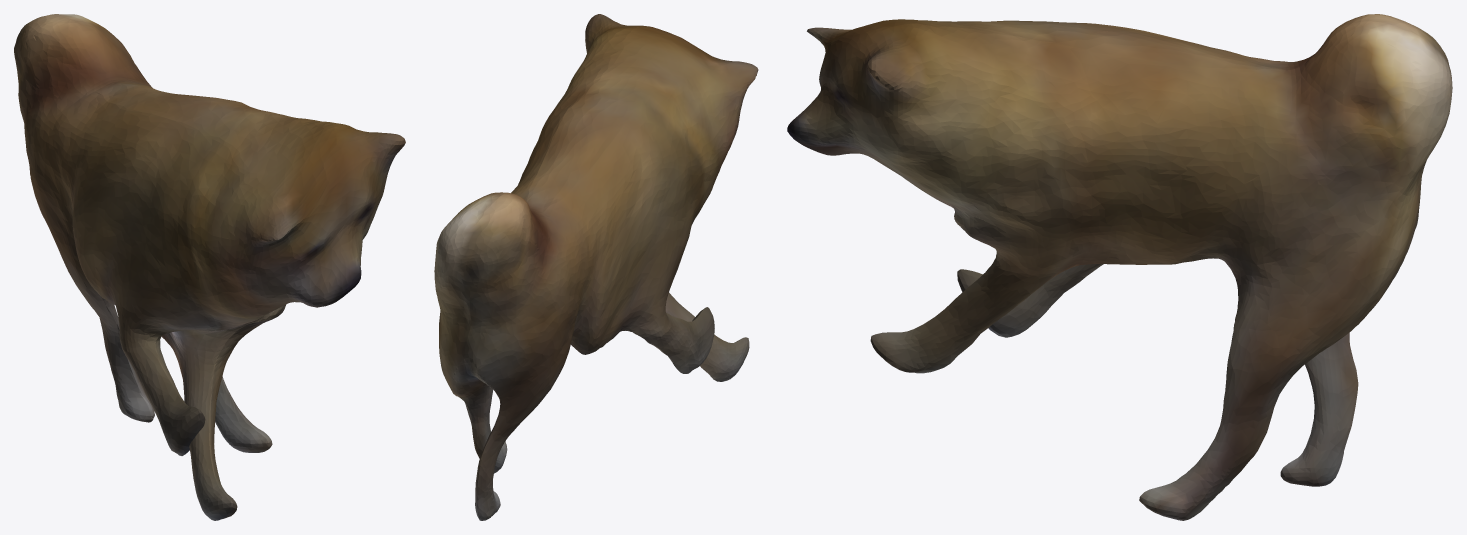
File: shiba-haru-1002-mesh-00011.obj
The picture shows the model from 3 angles, left to right: view 1: azimuth 30°, elevation 25°; view 2: azimuth 150°, elevation 25°; view 3: azimuth 270°, elevation 25°; orthographic projection. The views are drawn at different scales.
Size of the model in its own units: 0.0351 by 0.0761 by 0.0965.
